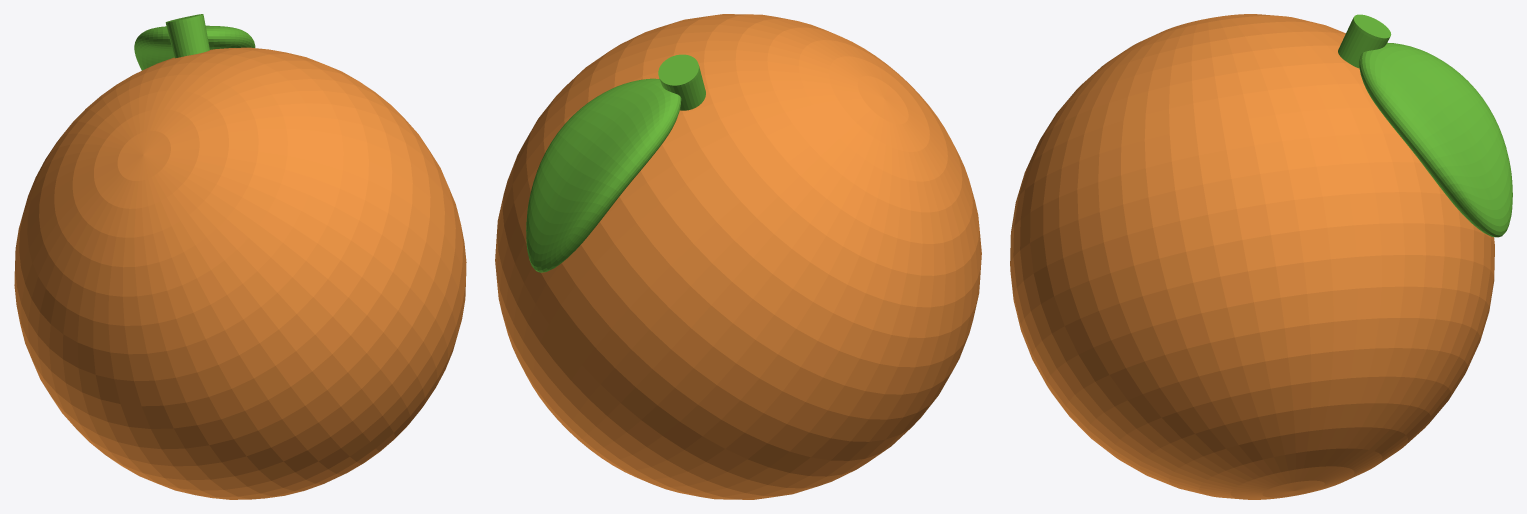
Rendered from orange.glb.
3 renders of one model, left to right at view 1: azimuth 30°, elevation 25°; view 2: azimuth 150°, elevation 25°; view 3: azimuth 270°, elevation 25°, orthographic. The views are drawn at different scales.
Visible parts, largest first — view 1: orange; view 2: orange; view 3: orange.
Part boxes in pixels (x1=…): orange: x1=14, y1=14, x2=466, y2=499; orange: x1=495, y1=14, x2=981, y2=499; orange: x1=1010, y1=14, x2=1512, y2=499.
Size of the model in its own units: 0.117 by 0.1219 by 0.1212.
